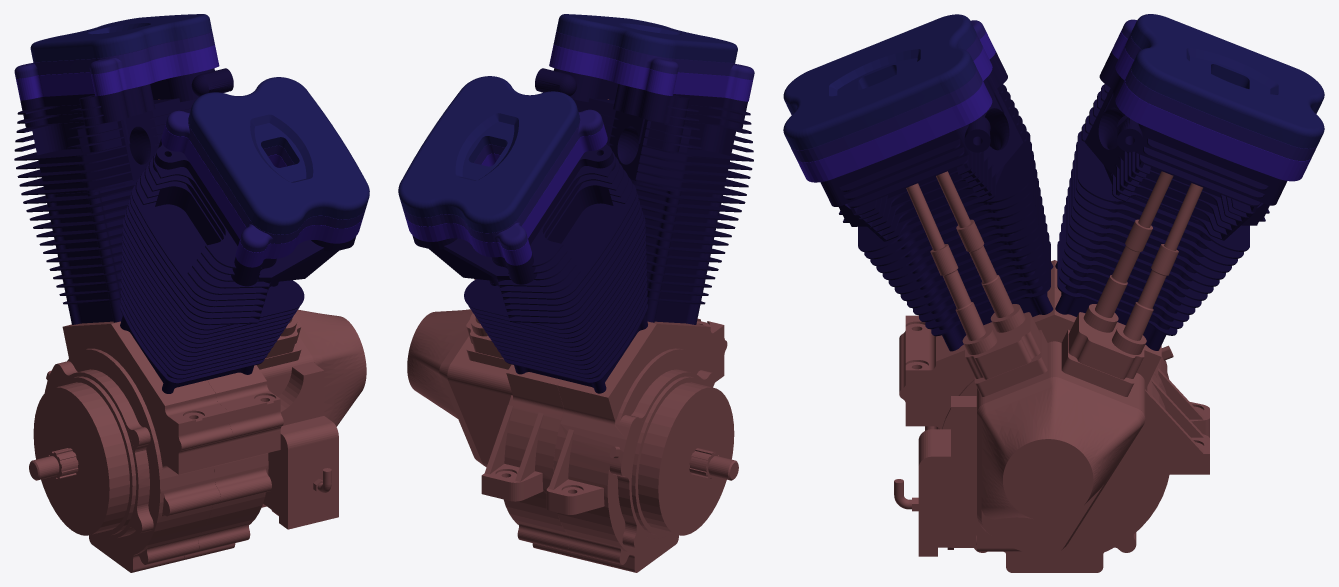
The model's file is 2piston.fbx.
3 renders of one model, left to right at view 1: azimuth 30°, elevation 25°; view 2: azimuth 150°, elevation 25°; view 3: azimuth 270°, elevation 25°, orthographic. The views are drawn at different scales.
Parts seen in each view (by area): view 1: REVTECH 100 - BASE L.STEP-1, REVTECH 100 - F-ROCKERBOX.STEP-2 F-ROCKERBOX-1-2.STEP-1, REVTECH 100 - R-HEAD.STEP-1, REVTECH 100 - F-HEAD.STEP-1, REVTECH 100 - R-JUG.STEP-1, REVTECH 100 - BASE R.STEP-1, REVTECH 100 - F-JUG.STEP-1, REVTECH 100 - OIL PUMP.STEP-1 OIL PUMP-0.STEP-1, REVTECH 100 - F-ROCKERBOX.STEP-1 F-ROCKERBOX-1-2.STEP-1, REVTECH 100 - RSCOV.STEP-1, REVTECH 100 - F-ROCKERBOX.STEP-1 F-ROCKERBOX-1.STEP-1, REVTECH 100 - F-ROCKERBOX.STEP-2 F-ROCKERBOX-1.STEP-1 (+3 smaller); view 2: REVTECH 100 - BASE L.STEP-1, REVTECH 100 - F-ROCKERBOX.STEP-1 F-ROCKERBOX-1-2.STEP-1, REVTECH 100 - F-HEAD.STEP-1, REVTECH 100 - R-HEAD.STEP-1, REVTECH 100 - BASE R.STEP-1, REVTECH 100 - F-JUG.STEP-1, REVTECH 100 - R-JUG.STEP-1, REVTECH 100 - F-ROCKERBOX.STEP-2 F-ROCKERBOX-1-2.STEP-1, REVTECH 100 - RSCOV.STEP-1, REVTECH 100 - F-ROCKERBOX.STEP-2 F-ROCKERBOX-1.STEP-1, REVTECH 100 - F-ROCKERBOX.STEP-1 F-ROCKERBOX-1.STEP-1, REVTECH 100 - F-ROCKERBOX.STEP-1 F-ROCKERBOX-2.STEP-1 (+2 smaller); view 3: REVTECH 100 - BASE R.STEP-1, REVTECH 100 - RSCOV.STEP-1, REVTECH 100 - F-JUG.STEP-1, REVTECH 100 - R-JUG.STEP-1, REVTECH 100 - F-ROCKERBOX.STEP-1 F-ROCKERBOX-1-2.STEP-1, REVTECH 100 - F-ROCKERBOX.STEP-2 F-ROCKERBOX-1-2.STEP-1, REVTECH 100 - R-HEAD.STEP-1, REVTECH 100 - F-HEAD.STEP-1, REVTECH 100 - F-PROD.STEP-1, REVTECH 100 - R-PROD.STEP-1, REVTECH 100 - OIL PUMP.STEP-1 OIL PUMP-0.STEP-1, REVTECH 100 - F-ROCKERBOX.STEP-1 F-ROCKERBOX-1.STEP-1 (+4 smaller).
Part boxes in pixels (x1,y1,x2,y2): REVTECH 100 - BASE L.STEP-1: [29, 321, 232, 572]; REVTECH 100 - F-ROCKERBOX.STEP-2 F-ROCKERBOX-1-2.STEP-1: [188, 77, 369, 234]; REVTECH 100 - R-HEAD.STEP-1: [124, 139, 356, 325]; REVTECH 100 - F-HEAD.STEP-1: [14, 68, 233, 195]; REVTECH 100 - R-JUG.STEP-1: [120, 217, 304, 393]; REVTECH 100 - BASE R.STEP-1: [183, 336, 314, 560]; REVTECH 100 - F-JUG.STEP-1: [23, 183, 136, 324]; REVTECH 100 - OIL PUMP.STEP-1 OIL PUMP-0.STEP-1: [263, 362, 338, 529]; REVTECH 100 - F-ROCKERBOX.STEP-1 F-ROCKERBOX-1-2.STEP-1: [30, 14, 211, 62]; REVTECH 100 - RSCOV.STEP-1: [295, 309, 366, 426]; REVTECH 100 - F-ROCKERBOX.STEP-1 F-ROCKERBOX-1.STEP-1: [16, 45, 219, 100]; REVTECH 100 - F-ROCKERBOX.STEP-2 F-ROCKERBOX-1.STEP-1: [161, 123, 363, 267]; REVTECH 100 - BASE L.STEP-1: [546, 318, 738, 572]; REVTECH 100 - F-ROCKERBOX.STEP-1 F-ROCKERBOX-1-2.STEP-1: [398, 76, 579, 232]; REVTECH 100 - F-HEAD.STEP-1: [412, 139, 643, 323]; REVTECH 100 - R-HEAD.STEP-1: [535, 68, 753, 195]; REVTECH 100 - BASE R.STEP-1: [447, 336, 584, 560]; REVTECH 100 - F-JUG.STEP-1: [464, 217, 647, 393]; REVTECH 100 - R-JUG.STEP-1: [632, 183, 745, 324]; REVTECH 100 - F-ROCKERBOX.STEP-2 F-ROCKERBOX-1-2.STEP-1: [556, 14, 737, 62]; REVTECH 100 - RSCOV.STEP-1: [407, 309, 483, 465]; REVTECH 100 - F-ROCKERBOX.STEP-2 F-ROCKERBOX-1.STEP-1: [549, 44, 752, 101]; REVTECH 100 - F-ROCKERBOX.STEP-1 F-ROCKERBOX-1.STEP-1: [405, 123, 607, 265]; REVTECH 100 - F-ROCKERBOX.STEP-1 F-ROCKERBOX-2.STEP-1: [402, 109, 603, 250]; REVTECH 100 - BASE R.STEP-1: [899, 287, 1209, 572]; REVTECH 100 - RSCOV.STEP-1: [977, 377, 1145, 555]; REVTECH 100 - F-JUG.STEP-1: [1055, 131, 1249, 350]; REVTECH 100 - R-JUG.STEP-1: [858, 131, 1053, 351]; REVTECH 100 - F-ROCKERBOX.STEP-1 F-ROCKERBOX-1-2.STEP-1: [1131, 14, 1324, 148]; REVTECH 100 - F-ROCKERBOX.STEP-2 F-ROCKERBOX-1-2.STEP-1: [783, 14, 976, 150]; REVTECH 100 - R-HEAD.STEP-1: [820, 51, 1026, 241]; REVTECH 100 - F-HEAD.STEP-1: [1081, 51, 1287, 240]; REVTECH 100 - F-PROD.STEP-1: [1061, 171, 1202, 396]; REVTECH 100 - R-PROD.STEP-1: [906, 171, 1047, 396]; REVTECH 100 - OIL PUMP.STEP-1 OIL PUMP-0.STEP-1: [894, 396, 976, 556]; REVTECH 100 - F-ROCKERBOX.STEP-1 F-ROCKERBOX-1.STEP-1: [1111, 30, 1311, 181].
Size of the model in its own units: 38576 by 57275 by 53052.
